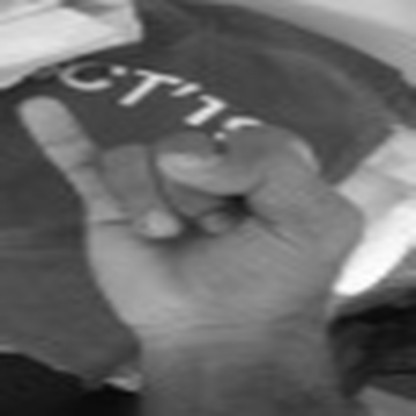i: (16, 88, 364, 324)
